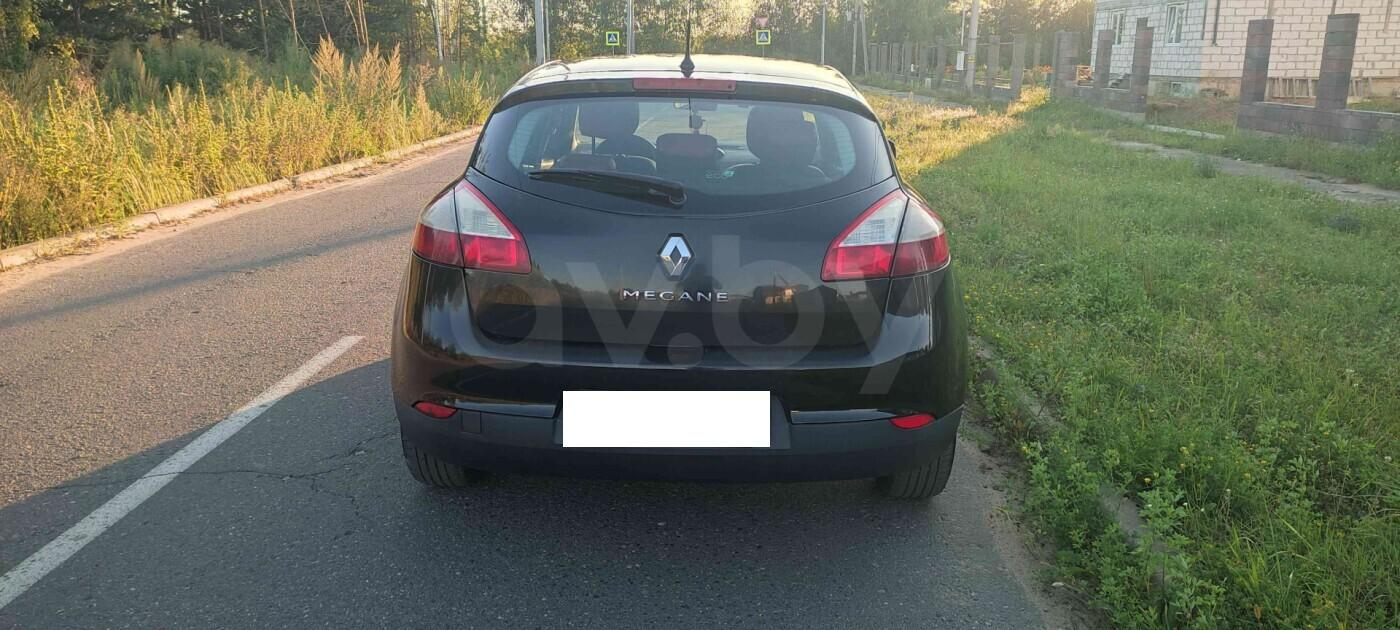Megane_2008-2014: (391, 47, 977, 516)
